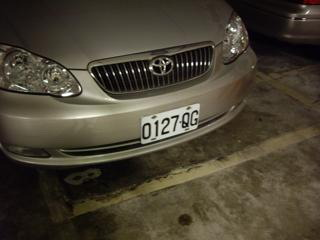plate: (139, 101, 200, 144)
